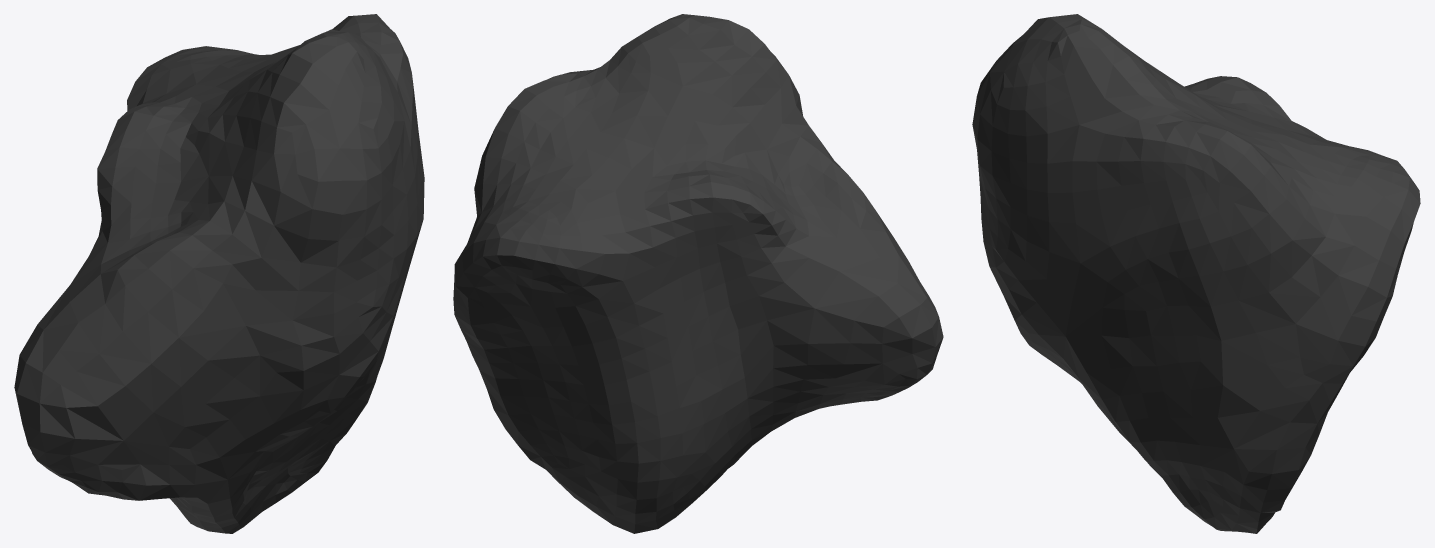
Rendered from Patella.glb.
The picture shows the model from 3 angles, left to right: view 1: azimuth 30°, elevation 25°; view 2: azimuth 150°, elevation 25°; view 3: azimuth 270°, elevation 25°; orthographic projection. The views are drawn at different scales.
Parts seen in each view (by area): view 1: Patella; view 2: Patella; view 3: Patella.
Part boxes in pixels (x1,y1,x2,y2): Patella: (14,14,424,533); Patella: (453,14,943,533); Patella: (972,14,1420,533).
Bounding box in the file's own units: 0.7455 × 0.8578 × 0.6753.
Materials: 1 (1 with a texture image).
